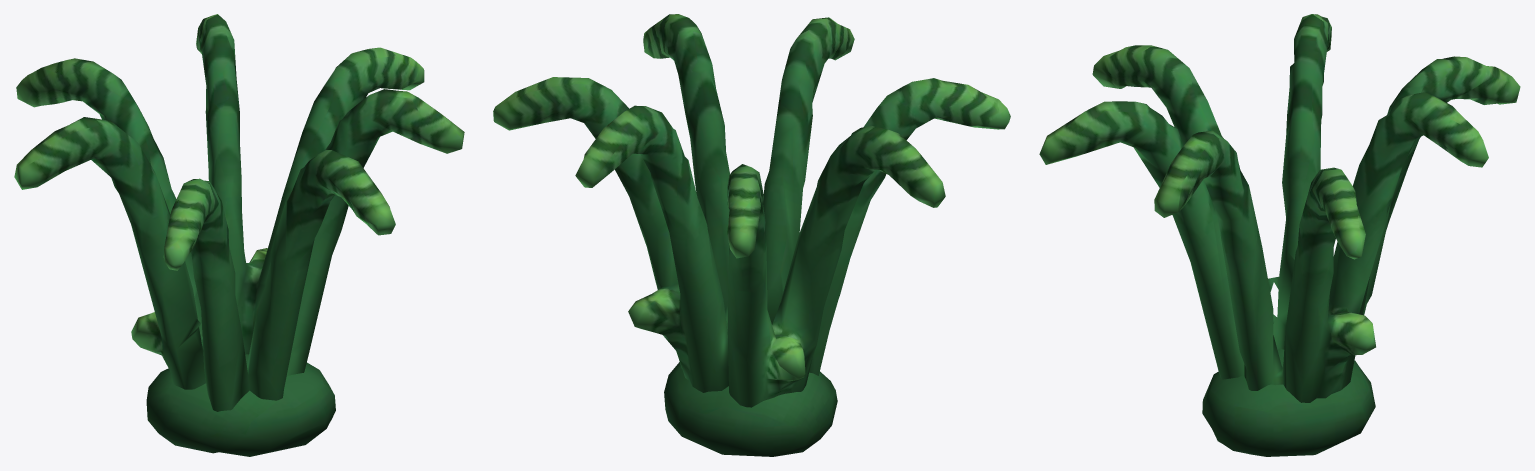
Rendered from fern.glb.
3 views of the same model, side by side, from view 1: azimuth 30°, elevation 25°; view 2: azimuth 150°, elevation 25°; view 3: azimuth 270°, elevation 25° (orthographic).
Visible parts, largest first — view 1: crown; view 2: crown; view 3: crown.
Part boxes in pixels (x1,y1,x2,y2): crown: (14, 14, 464, 456); crown: (493, 14, 1010, 456); crown: (1039, 14, 1520, 456).
Bounding box in the file's own units: 0.6842 × 0.541 × 0.665.
Materials: 1 (1 with a texture image).
